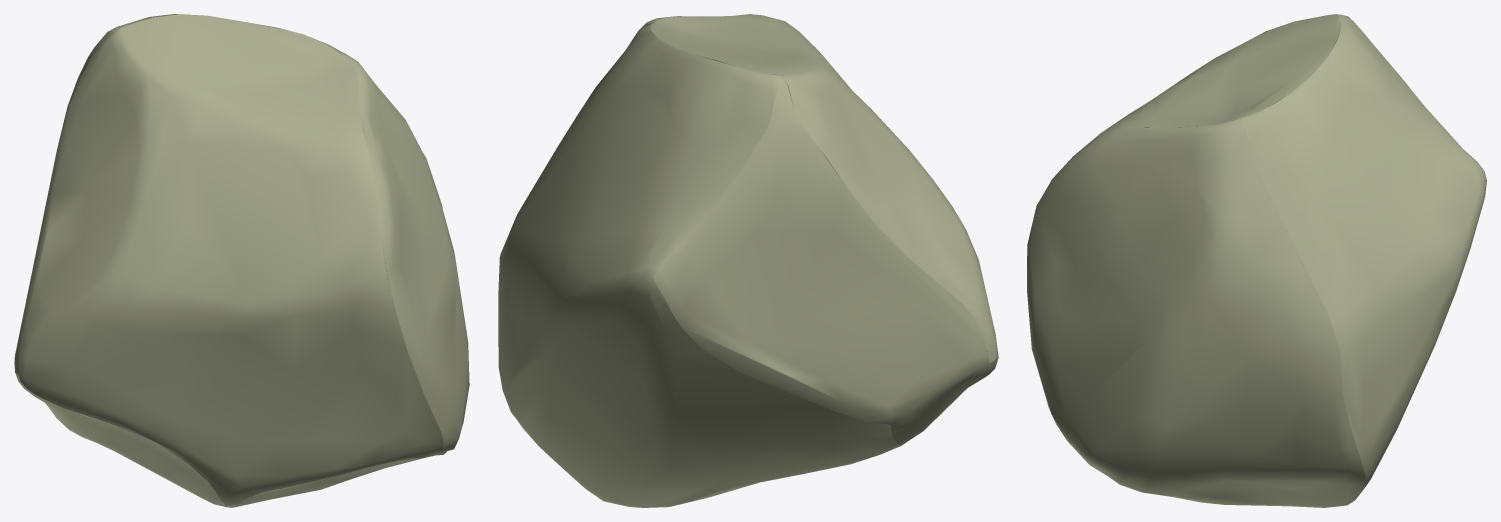
Rendered from Rock.fbx.
3 renders of one model, left to right at view 1: azimuth 30°, elevation 25°; view 2: azimuth 150°, elevation 25°; view 3: azimuth 270°, elevation 25°, orthographic. The views are drawn at different scales.
Visible parts, largest first — view 1: rock; view 2: rock; view 3: rock.
Boxes of the visible parts, x1,y1,x2,y2 form: rock: (14, 14, 469, 507); rock: (498, 14, 998, 507); rock: (1027, 14, 1486, 507).
Bounding box in the file's own units: 29.39 × 30.19 × 29.37.
